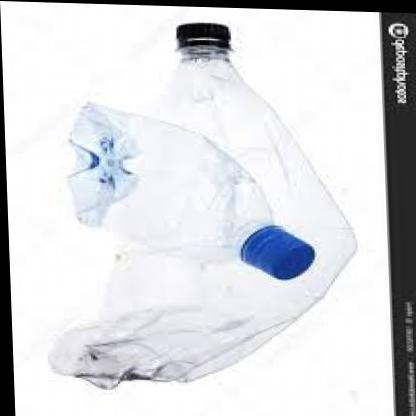Plastic: (37, 13, 358, 406), (58, 82, 314, 286)
